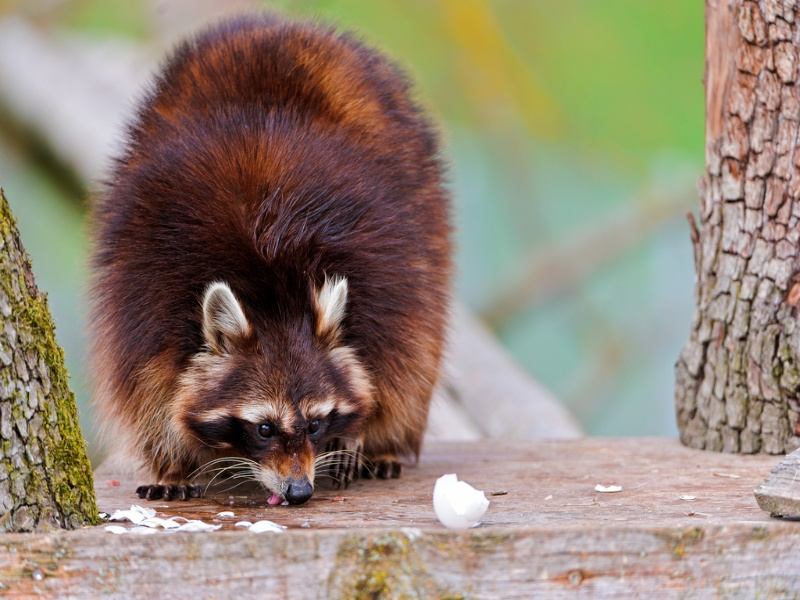raccoon: (88, 15, 452, 512)
